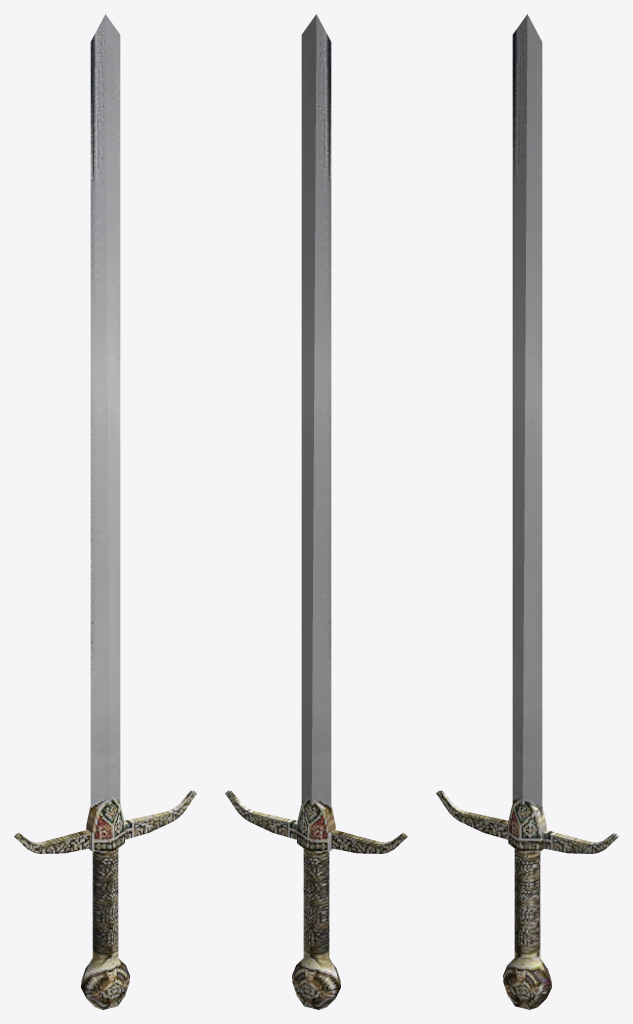
File: Light Sword.fbx
3 views of the same model, side by side, from view 1: azimuth 30°, elevation 25°; view 2: azimuth 150°, elevation 25°; view 3: azimuth 330°, elevation 25° (orthographic).
Visible parts, largest first — view 1: Light Sword; view 2: Light Sword; view 3: Light Sword.
Part boxes in pixels (x1,y1,x2,y2): Light Sword: [14, 14, 196, 1009]; Light Sword: [225, 14, 407, 1009]; Light Sword: [436, 14, 618, 1009].
Size of the model in its own units: 0.1917 by 0.9997 by 0.0291.
